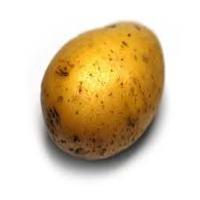biodegradable: (39, 20, 166, 161)
